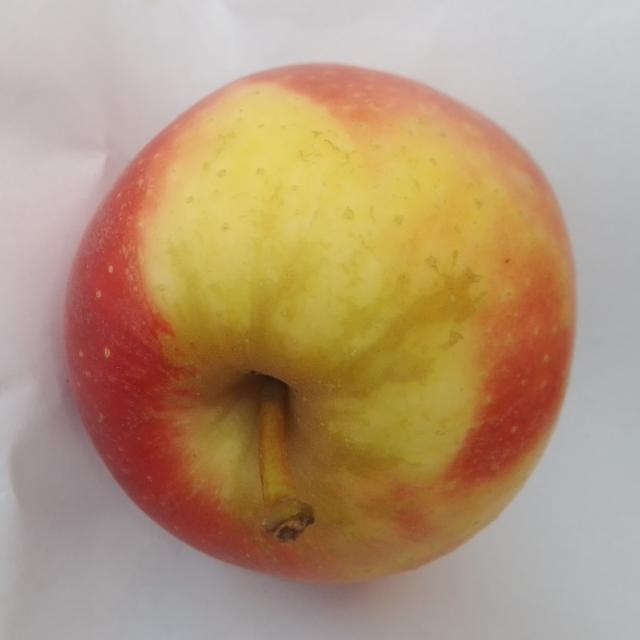Fresh Apple: (65, 55, 578, 588)
